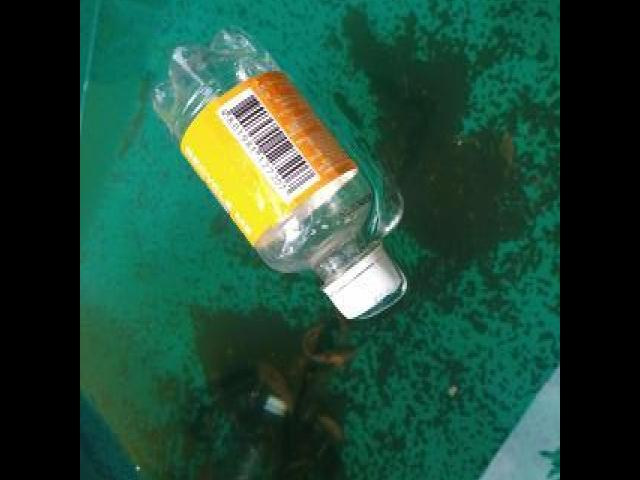Bottle: (151, 27, 401, 321)
